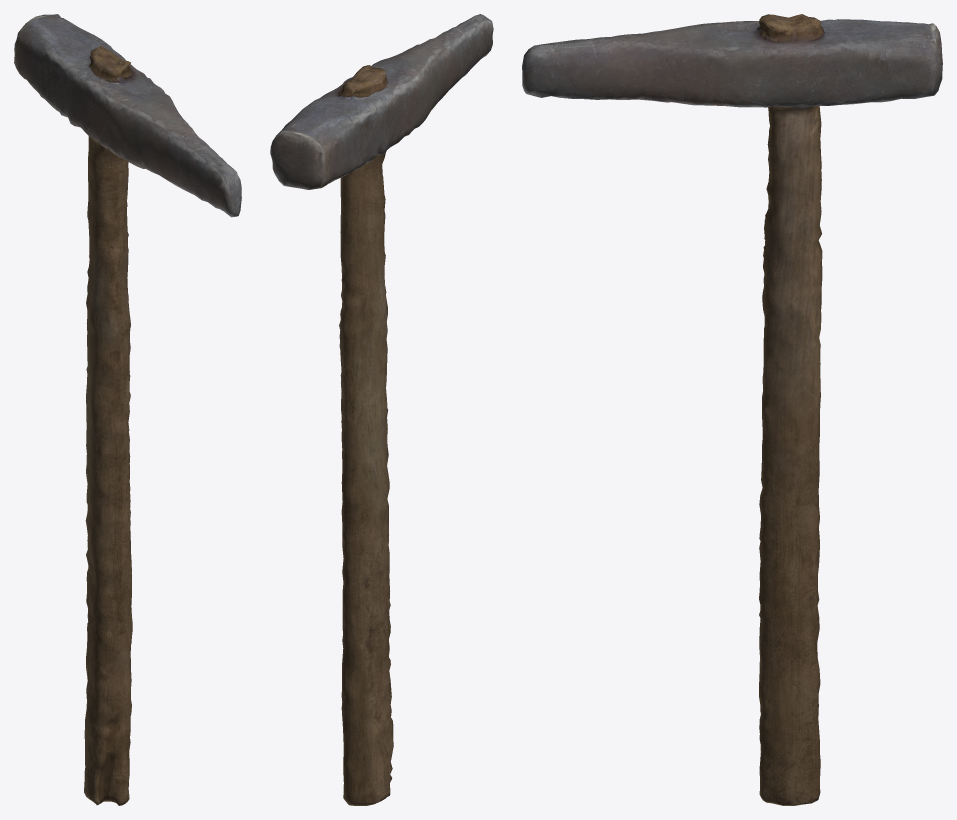
Rendered from MOD_BigHammer.fbx.
3 views of the same model, side by side, from view 1: azimuth 30°, elevation 25°; view 2: azimuth 150°, elevation 25°; view 3: azimuth 270°, elevation 25° (orthographic). The views are drawn at different scales.
Parts seen in each view (by area): view 1: MOD_BigHammer; view 2: MOD_BigHammer; view 3: MOD_BigHammer.
Part boxes in pixels (x1=…): MOD_BigHammer: x1=14, y1=14, x2=241, y2=805; MOD_BigHammer: x1=270, y1=14, x2=493, y2=805; MOD_BigHammer: x1=522, y1=14, x2=942, y2=805.
Bounding box in the file's own units: 7.3 × 84.47 × 41.21.
